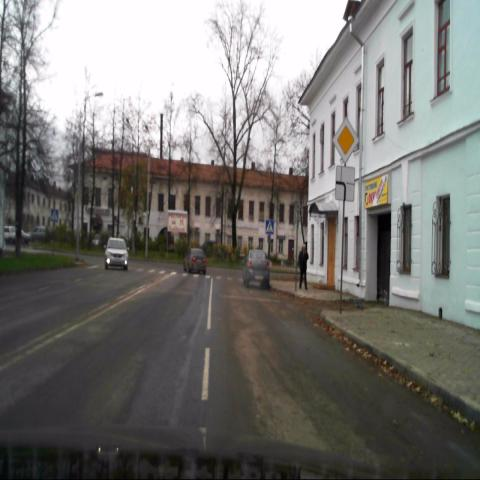8_13: (334, 164, 354, 202)
